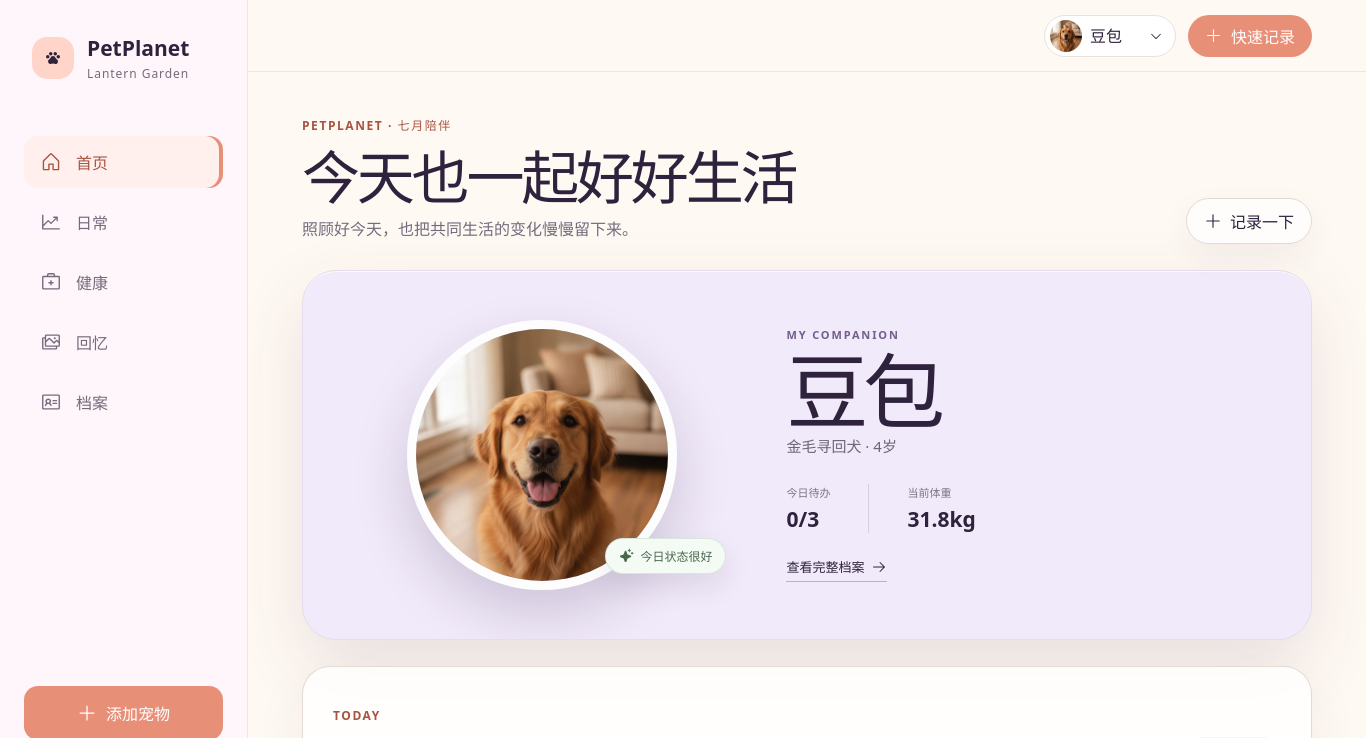
PetPlanet app › shows one current pet hero and switches it from the global selector
Expected: the heading "今天也一起好好生活" is shown, top-left (302, 146), bottom-right (795, 208)
Expected: the heading "豆包" is shown, top-left (786, 334), bottom-right (940, 446)
Select "米粒" in the dropdown named "当前宠物": coordinates (1116, 36) top-left (1090, 24), bottom-right (1141, 46)
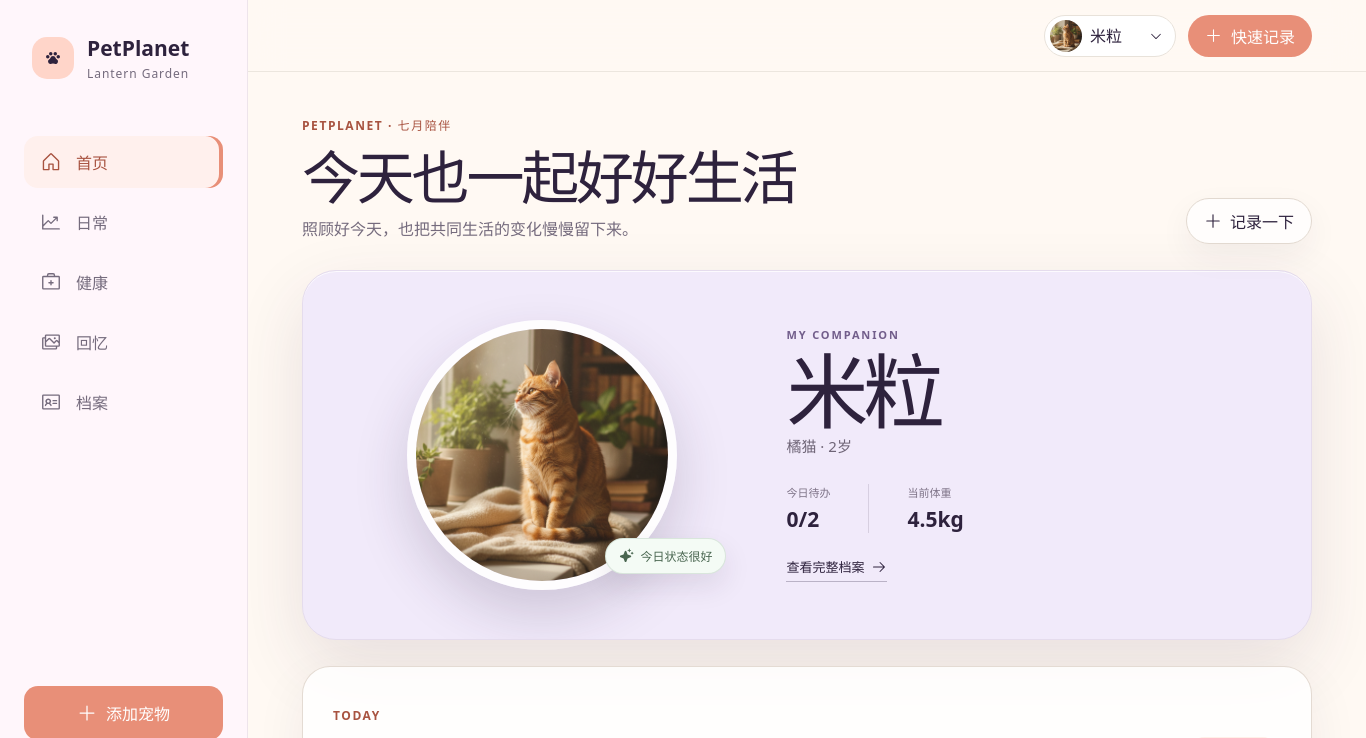
Expected: the heading "米粒" is shown, top-left (786, 334), bottom-right (940, 446)
